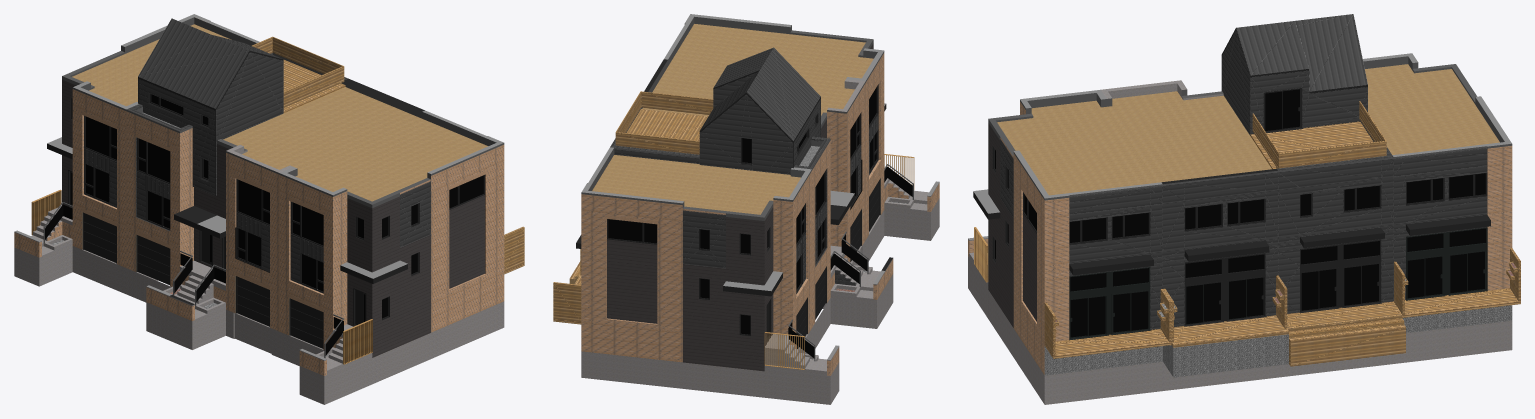
The picture shows the model from 3 angles, left to right: view 1: azimuth 30°, elevation 25°; view 2: azimuth 150°, elevation 25°; view 3: azimuth 270°, elevation 25°; orthographic projection. The views are drawn at different scales.
Parts seen in each view (by area): view 1: Object003; view 2: Object003; view 3: Object003.
Part boxes in pixels (<box>): Object003: <box>14,14,524,404</box>; Object003: <box>553,14,939,404</box>; Object003: <box>968,14,1520,404</box>.
Size of the model in its own units: 810 by 583 by 1024.
Materials: 25 (18 with a texture image).
